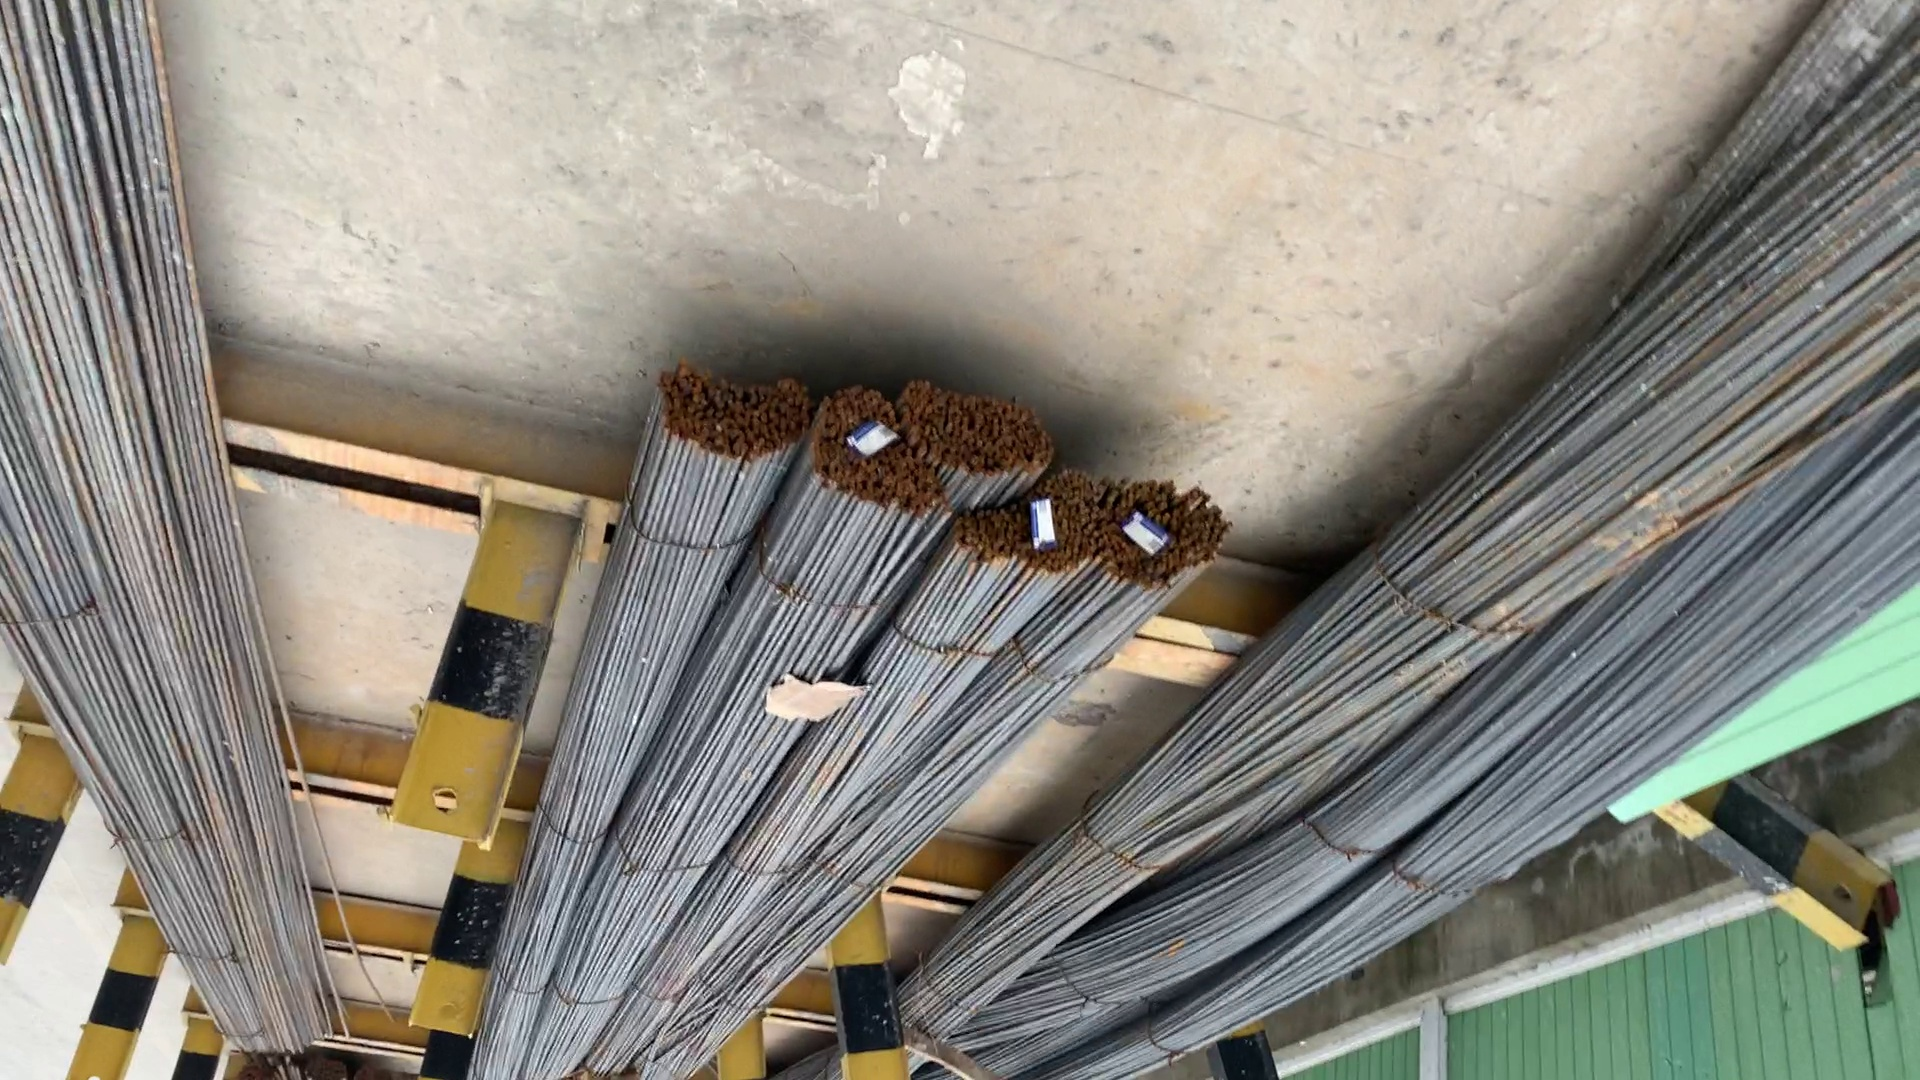rebar: (655, 352, 804, 469), (814, 389, 934, 524), (953, 477, 1100, 583), (914, 377, 1054, 485), (1104, 489, 1226, 587)
